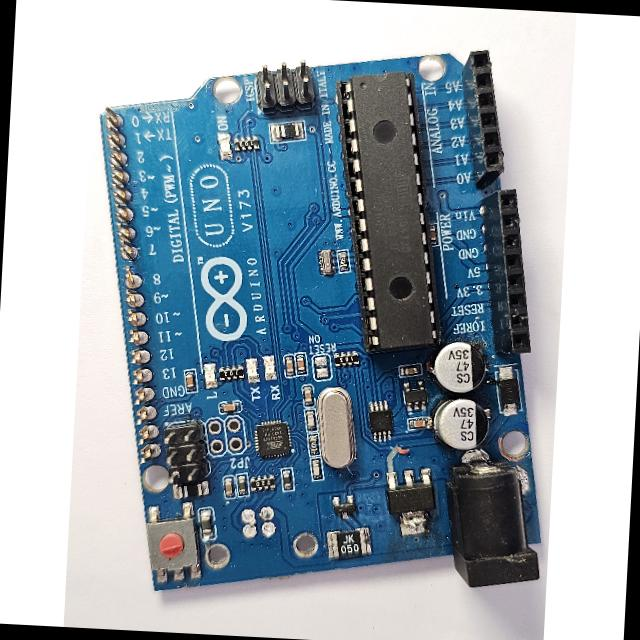missing_digital_pins: (95, 108, 166, 476)
missing_usb: (209, 490, 322, 583)
